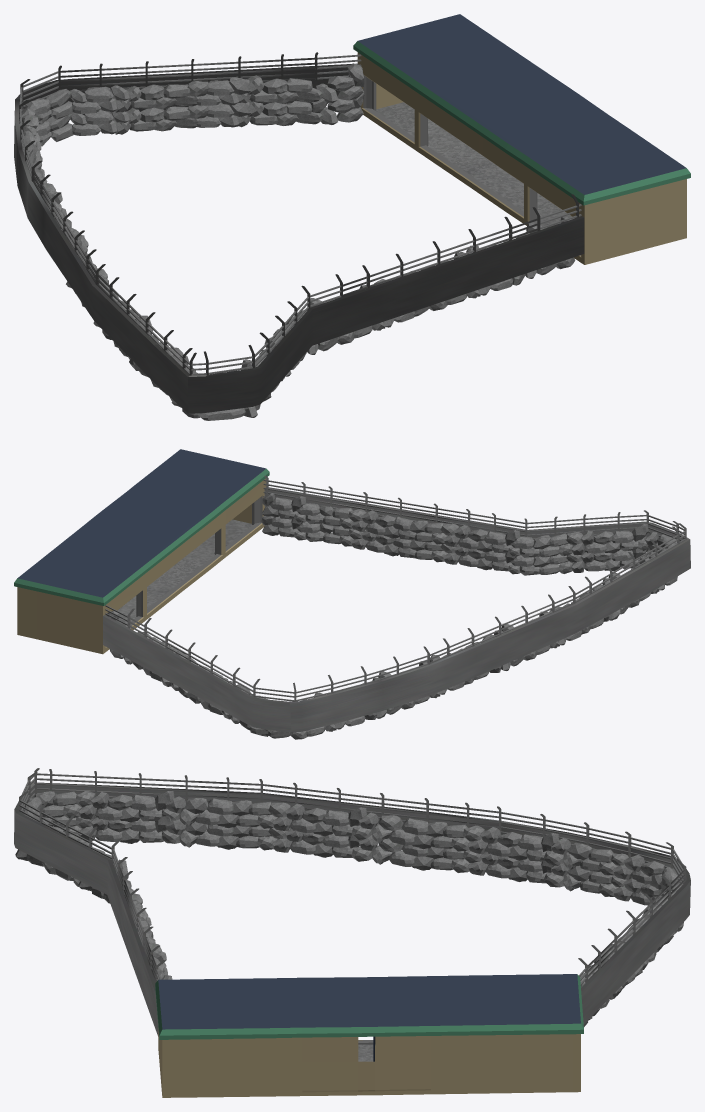
The model's file is unwrapped_GoriallaEnclosure.fbx.
3 views of the same model, one above another, from view 1: azimuth 30°, elevation 25°; view 2: azimuth 150°, elevation 25°; view 3: azimuth 270°, elevation 25° (orthographic). The views are drawn at different scales.
Parts seen in each view (by area): view 1: Enclosure; view 2: Enclosure; view 3: Enclosure.
Boxes of the visible parts, left/top/right/bottom form: Enclosure: left=14, top=14, right=690, bottom=420; Enclosure: left=14, top=449, right=690, bottom=739; Enclosure: left=14, top=768, right=690, bottom=1097.
Size of the model in its own units: 37.98 by 4.8 by 40.17.
